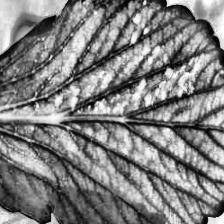Angular Leafspot: (46, 0, 214, 118)
